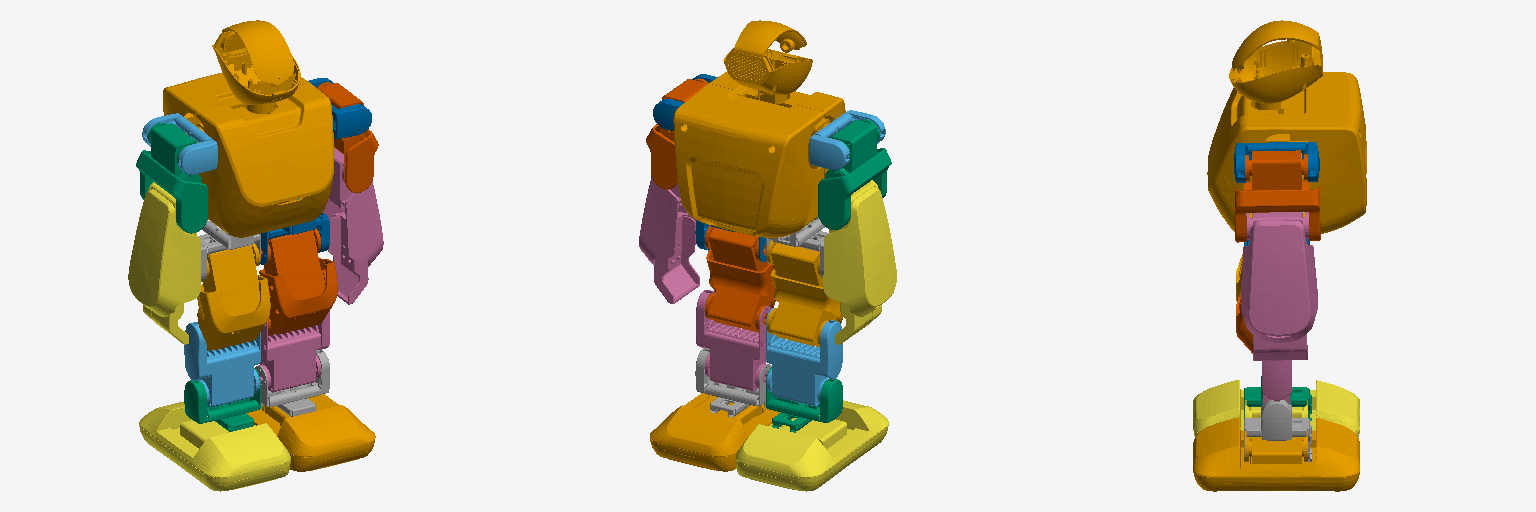
URDF robot description (Aelos):
<?xml version="1.0" encoding="utf-8"?>
<robot name="Aelos">
    <link name="robot_base">
        <inertial>
            <origin rpy="-3.137534 3.138377 -3.130478" xyz="0.000247 0.011615 0.256682"/>
            <inertia ixx="0.001933588462322" ixy="-4.5759811719492e-05" izz="0.0017844567075766" iyz="8.647796678901e-05" iyy="0.0018401490076994" ixz="-1.9265747910296e-05"/>
            <mass value="0.89999997615814"/>
        </inertial>
        <visual name="robot_base_visual">
            <origin xyz="0 0 0" rpy="0 0 0"/>
            <geometry>
                <mesh filename="../meshes/visual/robot_base_visual.stl"/>
            </geometry>
        </visual>
        <collision name="robot_base_collision">
            <origin xyz="0 0 0" rpy="0 0 0"/>
            <geometry>
                <mesh filename="../meshes/collision/robot_base_collision.stl"/>
            </geometry>
        </collision>
    </link>
    <joint name="jointRarm1" type="continuous">
        <axis xyz="0 0 1"/>
        <parent link="robot_base"/>
        <child link="R_Hand_douji_1"/>
        <origin rpy="1.570796 2.879872 1.570797" xyz="-0.031275 -0.008406 0.269404"/>
    </joint>
    <link name="R_Hand_douji_1">
        <inertial>
            <origin rpy="-1.618327 1.588962 1.279137" xyz="0.000147 -0.001249 -0.024092"/>
            <inertia ixx="2.3590024075163e-06" ixy="-2.9979200390309e-08" izz="6.7503254976796e-07" iyz="-4.3733078995659e-08" iyy="1.7780735892598e-06" ixz="-1.6106000705655e-10"/>
            <mass value="0.011180000379682"/>
        </inertial>
        <visual name="R_Hand_douji_1_visual">
            <origin xyz="0 0 0" rpy="0 0 0"/>
            <geometry>
                <mesh filename="../meshes/visual/R_Hand_douji_1_visual.stl"/>
            </geometry>
        </visual>
        <collision name="R_Hand_douji_1_collision">
            <origin xyz="0 0 0" rpy="0 0 0"/>
            <geometry>
                <mesh filename="../meshes/collision/R_Hand_douji_1_collision.stl"/>
            </geometry>
        </collision>
    </link>
    <joint name="jointRarm2" type="continuous">
        <axis xyz="0 0 1"/>
        <parent link="R_Hand_douji_1"/>
        <child link="R_Hand_duoji__2_"/>
        <origin rpy="-1.570871 2.879764 1.326530" xyz="0.000000 0.000001 -0.041500"/>
    </joint>
    <link name="R_Hand_duoji__2_">
        <inertial>
            <origin rpy="3.141126 3.141079 1.833339" xyz="-0.009077 -0.002935 0.001425"/>
            <inertia ixx="2.4332316209408e-05" ixy="-1.0667594911875e-07" izz="1.3466315999821e-05" iyz="2.848122009355e-07" iyy="1.566596827378e-05" ixz="-1.1999650549924e-07"/>
            <mass value="0.076999999582767"/>
        </inertial>
        <visual name="R_Hand_duoji__2__visual">
            <origin xyz="0 0 0" rpy="0 0 0"/>
            <geometry>
                <mesh filename="../meshes/visual/R_Hand_duoji__2__visual.stl"/>
            </geometry>
        </visual>
        <collision name="R_Hand_duoji__2__collision">
            <origin xyz="0 0 0" rpy="0 0 0"/>
            <geometry>
                <mesh filename="../meshes/collision/R_Hand_duoji__2__collision.stl"/>
            </geometry>
        </collision>
    </link>
    <joint name="jointRarm3" type="continuous">
        <axis xyz="0 0 1"/>
        <parent link="R_Hand_duoji__2_"/>
        <child link="R_Hand_duoji__3_"/>
        <origin rpy="3.141444 3.141527 2.117974" xyz="-0.046365 -0.012425 -0.000001"/>
    </joint>
    <link name="R_Hand_duoji__3_">
        <inertial>
            <origin rpy="0.000721 3.142910 2.881041" xyz="-0.002876 -0.008362 0.000058"/>
            <inertia ixx="3.1080635325809e-05" ixy="1.2642801430865e-08" izz="1.7643511794434e-05" iyz="-5.2642365031237e-07" iyy="2.0218438345852e-05" ixz="-1.4704575813965e-07"/>
            <mass value="0.11100000143051"/>
        </inertial>
        <visual name="R_Hand_duoji__3__visual">
            <origin xyz="0 0 0" rpy="0 0 0"/>
            <geometry>
                <mesh filename="../meshes/visual/R_Hand_duoji__3__visual.stl"/>
            </geometry>
        </visual>
        <collision name="R_Hand_duoji__3__collision">
            <origin xyz="0 0 0" rpy="0 0 0"/>
            <geometry>
                <mesh filename="../meshes/collision/R_Hand_duoji__3__collision.stl"/>
            </geometry>
        </collision>
    </link>
    <joint name="jointLarm1" type="continuous">
        <axis xyz="0 0 1"/>
        <parent link="robot_base"/>
        <child link="L_Hand_1_"/>
        <origin rpy="1.570797 2.879752 1.570797" xyz="0.030724 -0.008406 0.269404"/>
    </joint>
    <link name="L_Hand_1_">
        <inertial>
            <origin rpy="-1.671021 1.588070 1.226258" xyz="0.000651 -0.001322 0.025034"/>
            <inertia ixx="2.3590024075163e-06" ixy="-2.9979200390309e-08" izz="6.7503254976796e-07" iyz="-4.3733078995659e-08" iyy="1.7780735892598e-06" ixz="-1.6106000705655e-10"/>
            <mass value="0.011180000379682"/>
        </inertial>
        <visual name="L_Hand_1__visual">
            <origin xyz="0 0 0" rpy="0 0 0"/>
            <geometry>
                <mesh filename="../meshes/visual/L_Hand_1__visual.stl"/>
            </geometry>
        </visual>
        <collision name="L_Hand_1__collision">
            <origin xyz="0 0 0" rpy="0 0 0"/>
            <geometry>
                <mesh filename="../meshes/collision/L_Hand_1__collision.stl"/>
            </geometry>
        </collision>
    </link>
    <joint name="jointLarm2" type="continuous">
        <axis xyz="0 0 1"/>
        <parent link="L_Hand_1_"/>
        <child link="L_Hand_duoji__2"/>
        <origin rpy="1.570982 4.450608 1.326412" xyz="0.000000 0.000000 0.041500"/>
    </joint>
    <link name="L_Hand_duoji__2">
        <inertial>
            <origin rpy="0.000537 3.140681 -0.279928" xyz="-0.002886 -0.009123 -0.001426"/>
            <inertia ixx="2.4332316209408e-05" ixy="-1.0667594911875e-07" izz="1.3466315999821e-05" iyz="2.848122009355e-07" iyy="1.566596827378e-05" ixz="-1.1999650549924e-07"/>
            <mass value="0.076999999582767"/>
        </inertial>
        <visual name="L_Hand_duoji__2_visual">
            <origin xyz="0 0 0" rpy="0 0 0"/>
            <geometry>
                <mesh filename="../meshes/visual/L_Hand_duoji__2_visual.stl"/>
            </geometry>
        </visual>
        <collision name="L_Hand_duoji__2_collision">
            <origin xyz="0 0 0" rpy="0 0 0"/>
            <geometry>
                <mesh filename="../meshes/collision/L_Hand_duoji__2_collision.stl"/>
            </geometry>
        </collision>
    </link>
    <joint name="jointLarm3" type="continuous">
        <axis xyz="0 0 1"/>
        <parent link="L_Hand_duoji__2"/>
        <child link="L_Hand_duoji__3"/>
        <origin rpy="-3.141592 3.141589 -3.118131" xyz="-0.012423 -0.046365 0.000009"/>
    </joint>
    <link name="L_Hand_duoji__3">
        <inertial>
            <origin rpy="3.141268 3.141443 2.881762" xyz="-0.003469 -0.010594 -0.000061"/>
            <inertia ixx="3.1080635325809e-05" ixy="1.2642801430865e-08" izz="1.7643511794434e-05" iyz="-5.2642365031237e-07" iyy="2.0218438345852e-05" ixz="-1.4704575813965e-07"/>
            <mass value="0.11100000143051"/>
        </inertial>
        <visual name="L_Hand_duoji__3_visual">
            <origin xyz="0 0 0" rpy="0 0 0"/>
            <geometry>
                <mesh filename="../meshes/visual/L_Hand_duoji__3_visual.stl"/>
            </geometry>
        </visual>
        <collision name="L_Hand_duoji__3_collision">
            <origin xyz="0 0 0" rpy="0 0 0"/>
            <geometry>
                <mesh filename="../meshes/collision/L_Hand_duoji__3_collision.stl"/>
            </geometry>
        </collision>
    </link>
    <joint name="jointRleg1" type="continuous">
        <axis xyz="0 0 1"/>
        <parent link="robot_base"/>
        <child link="R_Leg__1"/>
        <origin rpy="1.570797 2.879773 -3.141592" xyz="-0.027275 -0.008406 0.204407"/>
    </joint>
    <link name="R_Leg__1">
        <inertial>
            <origin rpy="-3.141592 3.141593 1.308978" xyz="0.003485 0.016628 -0.000690"/>
            <inertia ixx="4.375217338501e-06" ixy="-7.7754442295744e-08" izz="1.3282617371156e-06" iyz="-1.0702529973538e-07" iyy="3.2797624671446e-06" ixz="3.2572604220547e-08"/>
            <mass value="0.021180000156164"/>
        </inertial>
        <visual name="R_Leg__1_visual">
            <origin xyz="0 0 0" rpy="0 0 0"/>
            <geometry>
                <mesh filename="../meshes/visual/R_Leg__1_visual.stl"/>
            </geometry>
        </visual>
        <collision name="R_Leg__1_collision">
            <origin xyz="0 0 0" rpy="0 0 0"/>
            <geometry>
                <mesh filename="../meshes/collision/R_Leg__1_collision.stl"/>
            </geometry>
        </collision>
    </link>
    <joint name="jointRleg2" type="continuous">
        <axis xyz="0 0 1"/>
        <parent link="R_Leg__1"/>
        <child link="R_Leg_duoji_2_2"/>
        <origin rpy="1.570798 2.356134 1.308980" xyz="0.010612 0.039604 -0.000000"/>
    </joint>
    <link name="R_Leg_duoji_2_2">
        <inertial>
            <origin rpy="-1.570795 3.141591 -2.356909" xyz="-0.017556 0.023636 0.000174"/>
            <inertia ixx="9.9915861335989e-05" ixy="5.672208484528e-07" izz="2.7654466015528e-05" iyz="-6.9826619355059e-07" iyy="8.8416508725748e-05" ixz="3.2338228300695e-06"/>
            <mass value="0.13830000162125"/>
        </inertial>
        <visual name="R_Leg_duoji_2_2_visual">
            <origin xyz="0 0 0" rpy="0 0 0"/>
            <geometry>
                <mesh filename="../meshes/visual/R_Leg_duoji_2_2_visual.stl"/>
            </geometry>
        </visual>
        <collision name="R_Leg_duoji_2_2_collision">
            <origin xyz="0 0 0" rpy="0 0 0"/>
            <geometry>
                <mesh filename="../meshes/collision/R_Leg_duoji_2_2_collision.stl"/>
            </geometry>
        </collision>
    </link>
    <joint name="jointRleg3" type="continuous">
        <axis xyz="0 0 1"/>
        <parent link="R_Leg_duoji_2_2"/>
        <child link="R_Leg_duoji_3_"/>
        <origin rpy="-3.141592 3.141591 -2.617980" xyz="-0.040955 0.040960 0.000000"/>
    </joint>
    <link name="R_Leg_duoji_3_">
        <inertial>
            <origin rpy="3.141252 3.138307 -2.882301" xyz="-0.010377 0.038882 -0.000509"/>
            <inertia ixx="2.2194842411341e-05" ixy="1.425460084736e-07" izz="1.2543334414349e-05" iyz="-1.2297483037128e-06" iyy="1.4065387847668e-05" ixz="1.780596553253e-07"/>
            <mass value="0.067970000207424"/>
        </inertial>
        <visual name="R_Leg_duoji_3__visual">
            <origin xyz="0 0 0" rpy="0 0 0"/>
            <geometry>
                <mesh filename="../meshes/visual/R_Leg_duoji_3__visual.stl"/>
            </geometry>
        </visual>
        <collision name="R_Leg_duoji_3__collision">
            <origin xyz="0 0 0" rpy="0 0 0"/>
            <geometry>
                <mesh filename="../meshes/collision/R_Leg_duoji_3__collision.stl"/>
            </geometry>
        </collision>
    </link>
    <joint name="jointRleg4" type="continuous">
        <axis xyz="0 0 1"/>
        <parent link="R_Leg_duoji_3_"/>
        <child link="R_Leg__4"/>
        <origin rpy="3.141592 3.141592 -2.618057" xyz="-0.012420 0.046373 -0.000000"/>
    </joint>
    <link name="R_Leg__4">
        <inertial>
            <origin rpy="-0.000000 3.141592 1.308985" xyz="0.003846 0.016370 0.000509"/>
            <inertia ixx="4.3384232141934e-06" ixy="1.2833161207901e-08" izz="1.2662293000639e-06" iyz="2.2850776212577e-08" iyy="3.3121863560683e-06" ixz="7.7632495510284e-08"/>
            <mass value="0.021180000156164"/>
        </inertial>
        <visual name="R_Leg__4_visual">
            <origin xyz="0 0 0" rpy="0 0 0"/>
            <geometry>
                <mesh filename="../meshes/visual/R_Leg__4_visual.stl"/>
            </geometry>
        </visual>
        <collision name="R_Leg__4_collision">
            <origin xyz="0 0 0" rpy="0 0 0"/>
            <geometry>
                <mesh filename="../meshes/collision/R_Leg__4_collision.stl"/>
            </geometry>
        </collision>
    </link>
    <joint name="jointRleg5" type="continuous">
        <axis xyz="0 0 1"/>
        <parent link="R_Leg__4"/>
        <child link="R_Leg_duoji_5_"/>
        <origin rpy="-1.570799 4.450601 1.308987" xyz="0.010613 0.039607 0.000000"/>
    </joint>
    <link name="R_Leg_duoji_5_">
        <inertial>
            <origin rpy="-3.141592 3.141593 1.832584" xyz="-0.010649 -0.003383 -0.000030"/>
            <inertia ixx="4.0839354823672e-05" ixy="-2.0378895117296e-07" izz="2.3156317813352e-05" iyz="-3.9567653875815e-07" iyy="2.6716376732524e-05" ixz="-4.2565058532426e-07"/>
            <mass value="0.14309999346733"/>
        </inertial>
        <visual name="R_Leg_duoji_5__visual">
            <origin xyz="0 0 0" rpy="0 0 0"/>
            <geometry>
                <mesh filename="../meshes/visual/R_Leg_duoji_5__visual.stl"/>
            </geometry>
        </visual>
        <collision name="R_Leg_duoji_5__collision">
            <origin xyz="0 0 0" rpy="0 0 0"/>
            <geometry>
                <mesh filename="../meshes/collision/R_Leg_duoji_5__collision.stl"/>
            </geometry>
        </collision>
    </link>
    <joint name="jointLleg1" type="continuous">
        <axis xyz="0 0 1"/>
        <parent link="robot_base"/>
        <child link="L_Leg_1_"/>
        <origin rpy="1.570796 3.403411 -3.141592" xyz="0.026725 -0.008406 0.204407"/>
    </joint>
    <link name="L_Leg_1_">
        <inertial>
            <origin rpy="-3.141593 3.141592 1.832615" xyz="-0.005270 0.016150 -0.000690"/>
            <inertia ixx="4.375217338501e-06" ixy="-7.7754442295744e-08" izz="1.3282617371156e-06" iyz="-1.0702529973538e-07" iyy="3.2797624671446e-06" ixz="3.2572604220547e-08"/>
            <mass value="0.021180000156164"/>
        </inertial>
        <visual name="L_Leg_1__visual">
            <origin xyz="0 0 0" rpy="0 0 0"/>
            <geometry>
                <mesh filename="../meshes/visual/L_Leg_1__visual.stl"/>
            </geometry>
        </visual>
        <collision name="L_Leg_1__collision">
            <origin xyz="0 0 0" rpy="0 0 0"/>
            <geometry>
                <mesh filename="../meshes/collision/L_Leg_1__collision.stl"/>
            </geometry>
        </collision>
    </link>
    <joint name="jointLleg2" type="continuous">
        <axis xyz="0 0 1"/>
        <parent link="L_Leg_1_"/>
        <child link="L_leg_duoji__2"/>
        <origin rpy="-1.570796 1.832619 -1.308978" xyz="-0.010613 0.039604 0.000000"/>
    </joint>
    <link name="L_leg_duoji__2">
        <inertial>
            <origin rpy="-1.570797 3.141593 2.879117" xyz="0.011688 0.027009 0.000174"/>
            <inertia ixx="9.9915861335989e-05" ixy="5.672208484528e-07" izz="2.7654466015528e-05" iyz="-6.9826619355059e-07" iyy="8.8416508725748e-05" ixz="3.2338228300695e-06"/>
            <mass value="0.13830000162125"/>
        </inertial>
        <visual name="L_leg_duoji__2_visual">
            <origin xyz="0 0 0" rpy="0 0 0"/>
            <geometry>
                <mesh filename="../meshes/visual/L_leg_duoji__2_visual.stl"/>
            </geometry>
        </visual>
        <collision name="L_leg_duoji__2_collision">
            <origin xyz="0 0 0" rpy="0 0 0"/>
            <geometry>
                <mesh filename="../meshes/collision/L_leg_duoji__2_collision.stl"/>
            </geometry>
        </collision>
    </link>
    <joint name="jointLleg3" type="continuous">
        <axis xyz="0 0 1"/>
        <parent link="L_leg_duoji__2"/>
        <child link="L_Leg_duoji__3"/>
        <origin rpy="3.141589 3.141593 2.618024" xyz="0.014993 0.055949 0.000001"/>
    </joint>
    <link name="L_Leg_duoji__3">
        <inertial>
            <origin rpy="3.141210 3.142220 -2.886966" xyz="-0.010414 0.038858 -0.000509"/>
            <inertia ixx="2.2194842411341e-05" ixy="1.425460084736e-07" izz="1.2543334414349e-05" iyz="-1.2297483037128e-06" iyy="1.4065387847668e-05" ixz="1.780596553253e-07"/>
            <mass value="0.067970000207424"/>
        </inertial>
        <visual name="L_Leg_duoji__3_visual">
            <origin xyz="0 0 0" rpy="0 0 0"/>
            <geometry>
                <mesh filename="../meshes/visual/L_Leg_duoji__3_visual.stl"/>
            </geometry>
        </visual>
        <collision name="L_Leg_duoji__3_collision">
            <origin xyz="0 0 0" rpy="0 0 0"/>
            <geometry>
                <mesh filename="../meshes/collision/L_Leg_duoji__3_collision.stl"/>
            </geometry>
        </collision>
    </link>
    <joint name="jointLleg4" type="continuous">
        <axis xyz="0 0 1"/>
        <parent link="L_Leg_duoji__3"/>
        <child link="L_Leg__4"/>
        <origin rpy="-3.141591 3.141588 2.094452" xyz="-0.012421 0.046373 -0.000000"/>
    </joint>
    <link name="L_Leg__4">
        <inertial>
            <origin rpy="0.000000 3.141593 2.879683" xyz="-0.016369 0.003847 0.000509"/>
            <inertia ixx="4.3384232141934e-06" ixy="1.2833161207901e-08" izz="1.2662293000639e-06" iyz="2.2850776212577e-08" iyy="3.3121863560683e-06" ixz="7.7632495510284e-08"/>
            <mass value="0.021180000156164"/>
        </inertial>
        <visual name="L_Leg__4_visual">
            <origin xyz="0 0 0" rpy="0 0 0"/>
            <geometry>
                <mesh filename="../meshes/visual/L_Leg__4_visual.stl"/>
            </geometry>
        </visual>
        <collision name="L_Leg__4_collision">
            <origin xyz="0 0 0" rpy="0 0 0"/>
            <geometry>
                <mesh filename="../meshes/collision/L_Leg__4_collision.stl"/>
            </geometry>
        </collision>
    </link>
    <joint name="jointLleg5" type="continuous">
        <axis xyz="0 0 1"/>
        <parent link="L_Leg__4"/>
        <child link="L_Leg_douji_5_"/>
        <origin rpy="-1.570795 4.450599 2.879682" xyz="-0.039606 0.010617 0.000000"/>
    </joint>
    <link name="L_Leg_douji_5_">
        <inertial>
            <origin rpy="-3.141592 3.141593 1.832588" xyz="0.009152 0.001923 -0.000031"/>
            <inertia ixx="4.0839354823672e-05" ixy="-2.0378895117296e-07" izz="2.3156317813352e-05" iyz="-3.9567653875815e-07" iyy="2.6716376732524e-05" ixz="-4.2565058532426e-07"/>
            <mass value="0.14309999346733"/>
        </inertial>
        <visual name="L_Leg_douji_5__visual">
            <origin xyz="0 0 0" rpy="0 0 0"/>
            <geometry>
                <mesh filename="../meshes/visual/L_Leg_douji_5__visual.stl"/>
            </geometry>
        </visual>
        <collision name="L_Leg_douji_5__collision">
            <origin xyz="0 0 0" rpy="0 0 0"/>
            <geometry>
                <mesh filename="../meshes/collision/L_Leg_douji_5__collision.stl"/>
            </geometry>
        </collision>
    </link>
</robot>

--- Render facts (derived) ---
The picture shows the robot from 3 angles, left to right: view 1: azimuth 30°, elevation 25°; view 2: azimuth 150°, elevation 25°; view 3: azimuth 270°, elevation 25°; orthographic projection.
Robot: Aelos — 17 links, 16 joints (16 continuous); root link robot_base; default pose: all joints at 0.
Visible links, largest first — view 1: robot_base, R_Leg_duoji_5_, R_Hand_duoji__3_, R_Leg_duoji_2_2, L_leg_duoji__2, L_Leg_douji_5_, L_Hand_duoji__3, R_Hand_duoji__2_, R_Leg_duoji_3_, L_Leg_duoji__3, L_Hand_duoji__2, R_Leg__4 (+5 smaller); view 2: robot_base, R_Leg_duoji_5_, R_Hand_duoji__3_, L_Leg_douji_5_, L_leg_duoji__2, R_Leg_duoji_2_2, L_Hand_duoji__3, R_Leg_duoji_3_, R_Hand_duoji__2_, L_Leg_duoji__3, R_Leg__4, L_Hand_duoji__2 (+4 smaller); view 3: robot_base, L_Hand_duoji__3, L_Leg_douji_5_, L_Hand_duoji__2, R_Leg_duoji_5_, L_Leg__4, L_Hand_1_, L_Leg_duoji__3, R_Leg__4.
Boxes of the visible links, <box> form: robot_base: <box>163,20,333,237</box>; R_Leg_duoji_5_: <box>139,402,290,491</box>; R_Hand_duoji__3_: <box>128,182,200,344</box>; R_Leg_duoji_2_2: <box>197,243,270,350</box>; L_leg_duoji__2: <box>259,228,337,335</box>; L_Leg_douji_5_: <box>246,394,375,471</box>; L_Hand_duoji__3: <box>323,148,383,304</box>; R_Hand_duoji__2_: <box>136,123,207,233</box>; R_Leg_duoji_3_: <box>184,322,260,406</box>; L_Leg_duoji__3: <box>259,311,329,392</box>; L_Hand_duoji__2: <box>317,82,378,192</box>; R_Leg__4: <box>184,368,260,431</box>; robot_base: <box>673,20,845,237</box>; R_Leg_duoji_5_: <box>736,400,888,491</box>; R_Hand_duoji__3_: <box>823,180,896,344</box>; L_Leg_douji_5_: <box>650,393,780,471</box>; L_leg_duoji__2: <box>704,225,775,332</box>; R_Leg_duoji_2_2: <box>767,240,842,346</box>; L_Hand_duoji__3: <box>639,177,699,303</box>; R_Leg_duoji_3_: <box>766,308,842,406</box>; R_Hand_duoji__2_: <box>818,119,891,229</box>; L_Leg_duoji__3: <box>696,290,771,390</box>; R_Leg__4: <box>766,367,842,432</box>; L_Hand_duoji__2: <box>646,78,708,189</box>; robot_base: <box>1207,20,1366,233</box>; L_Hand_duoji__3: <box>1240,212,1317,360</box>; L_Leg_douji_5_: <box>1193,417,1359,491</box>; L_Hand_duoji__2: <box>1235,150,1320,242</box>; R_Leg_duoji_5_: <box>1193,380,1359,437</box>; L_Leg__4: <box>1244,400,1311,461</box>; L_Hand_1_: <box>1234,142,1319,182</box>; L_Leg_duoji__3: <box>1262,360,1291,405</box>; R_Leg__4: <box>1244,376,1311,420</box>.
Size in the robot's own frame: 0.2024 by 0.1299 by 0.3521 metres.
Meshes: 17 distinct files referenced, 17 mesh visuals loaded (17 binary STL).
